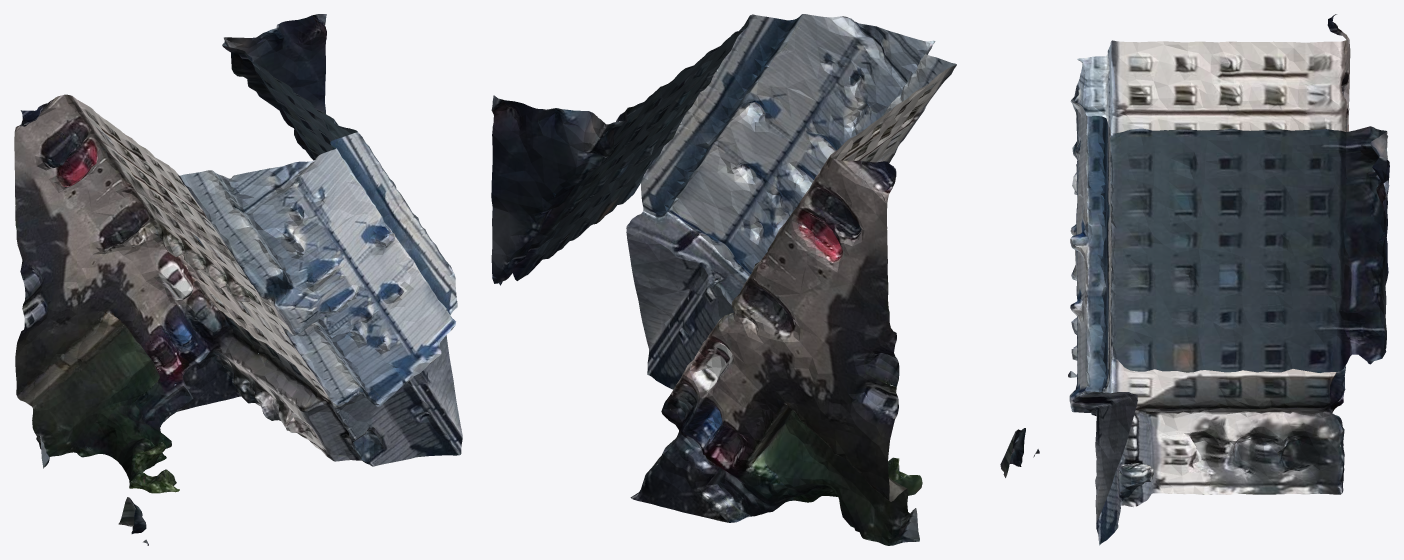
File: Tile_+031_+024_L21_00001100.obj
3 views of the same model, side by side, from view 1: azimuth 30°, elevation 25°; view 2: azimuth 150°, elevation 25°; view 3: azimuth 270°, elevation 25° (orthographic). The views are drawn at different scales.
Bounding box in the file's own units: 31.38 × 31.31 × 25.19.
Materials: 1 (1 with a texture image).
